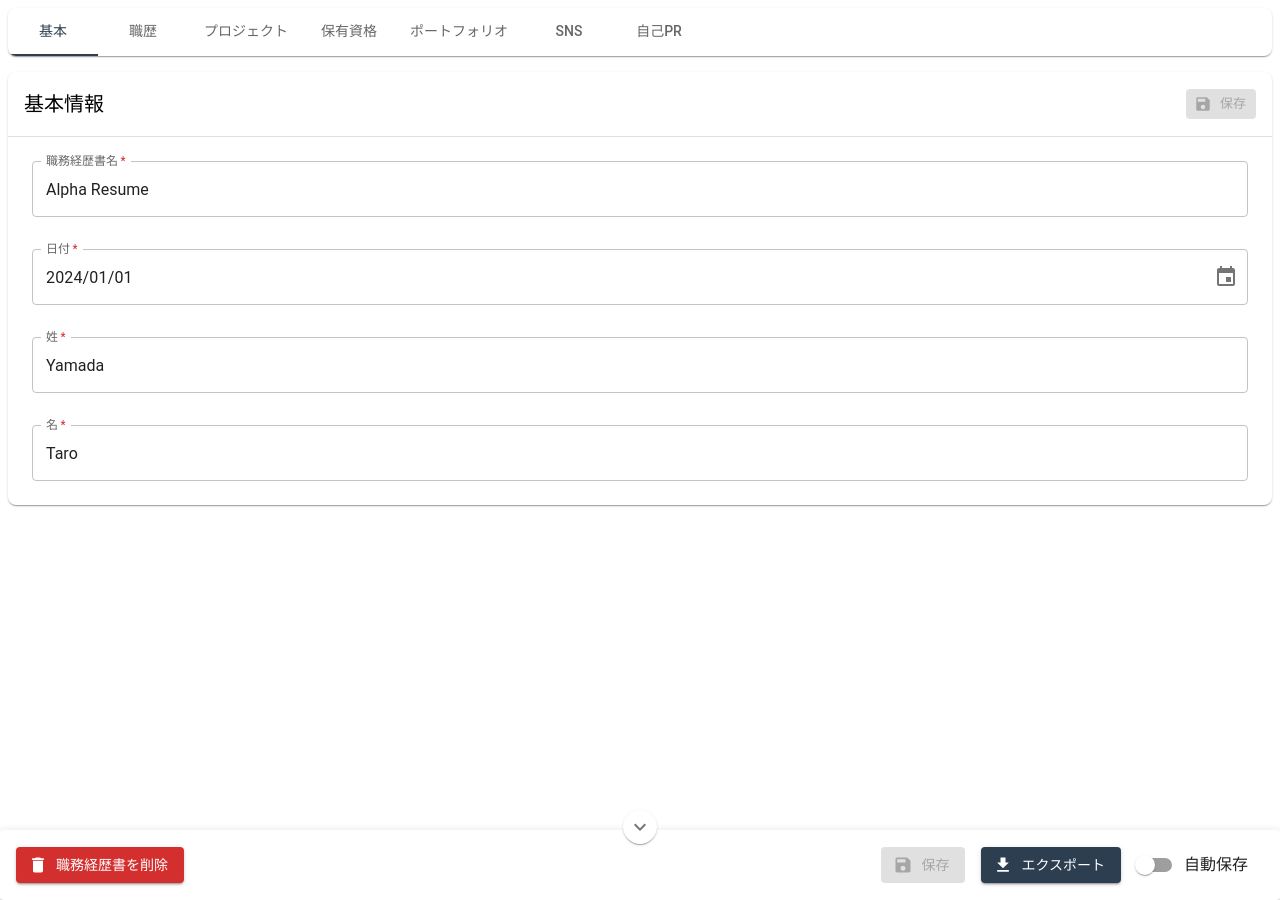
Test: resume editor › section tab切り替えで表示セクションとstoreを更新すること
Expected: the tab "基本" is shown, [8,8,98,56]
Click the tab "プロジェクト": (246,32) [188,8,304,56]
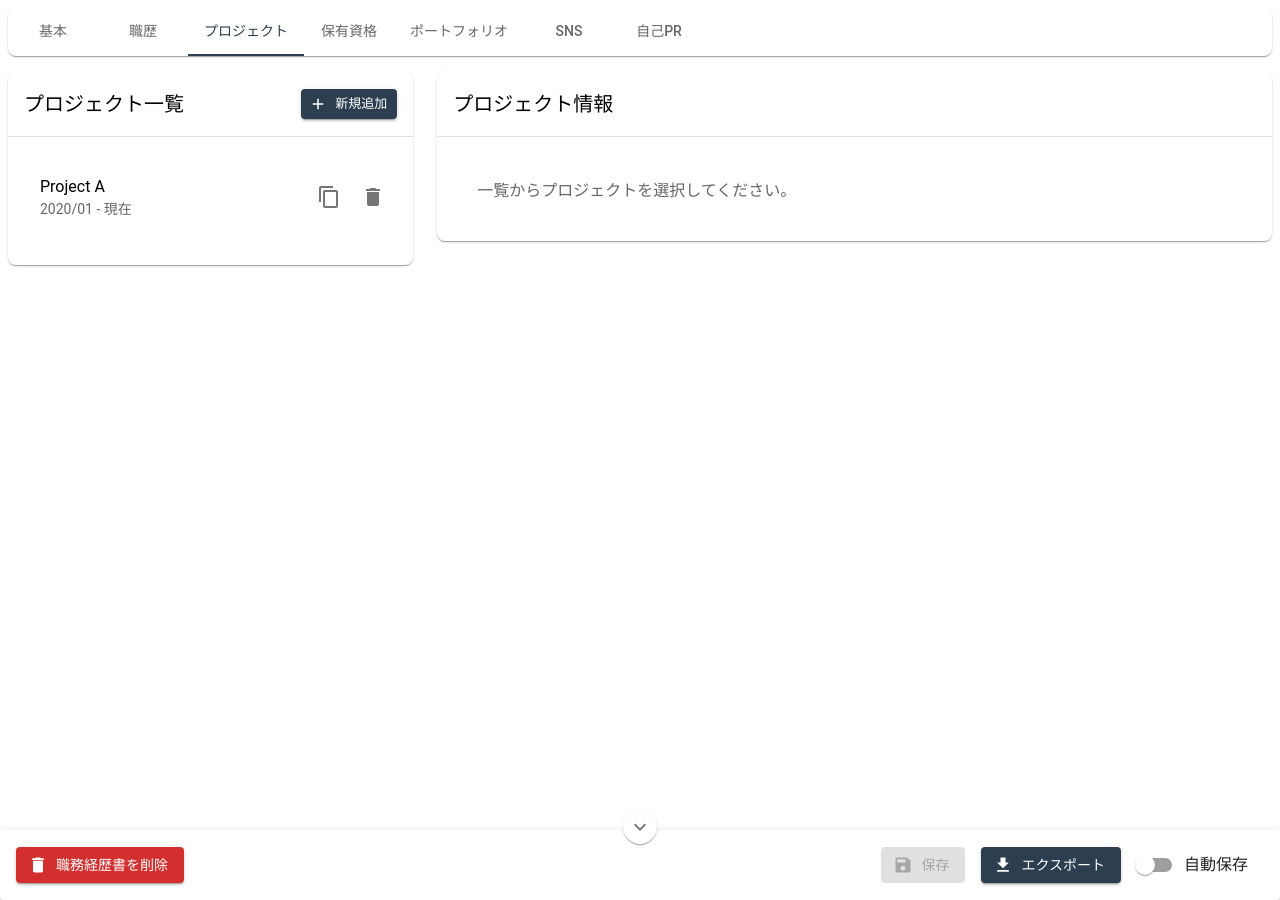
Now the heading "プロジェクト情報" is shown, box [453,88,613,120]
Now the text "Project A" is shown, box [40,177,105,196]
